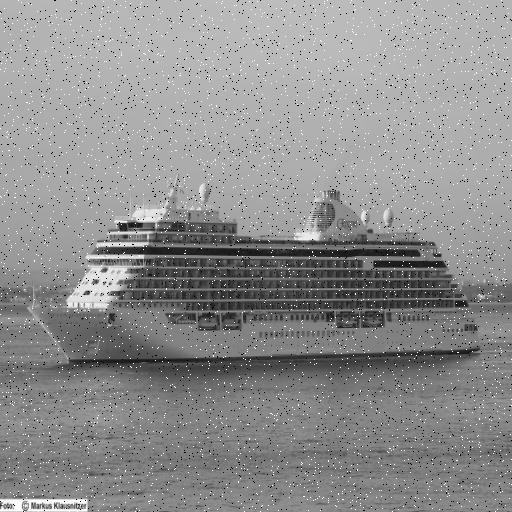cruises: (24, 171, 488, 368)
